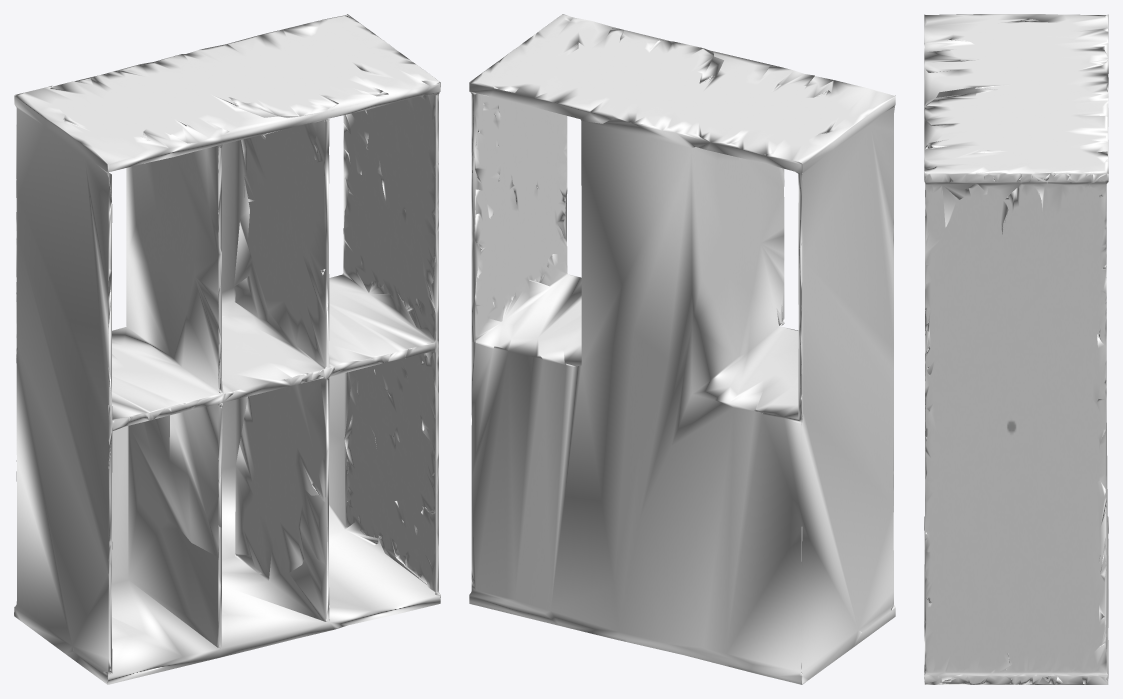
Rendered from meshy-target-93209258.glb.
3 renders of one model, left to right at view 1: azimuth 30°, elevation 25°; view 2: azimuth 150°, elevation 25°; view 3: azimuth 270°, elevation 25°, orthographic.
Visible parts, largest first — view 1: Exact catalog scale: target-93209258; view 2: Exact catalog scale: target-93209258; view 3: Exact catalog scale: target-93209258.
Part boxes in pixels (<box>): Exact catalog scale: target-93209258: <box>14,14,440,684</box>; Exact catalog scale: target-93209258: <box>469,14,895,684</box>; Exact catalog scale: target-93209258: <box>924,14,1108,684</box>.
Bounding box in the file's own units: 0.61 × 0.913 × 0.298.
1 material, 1 textured.
